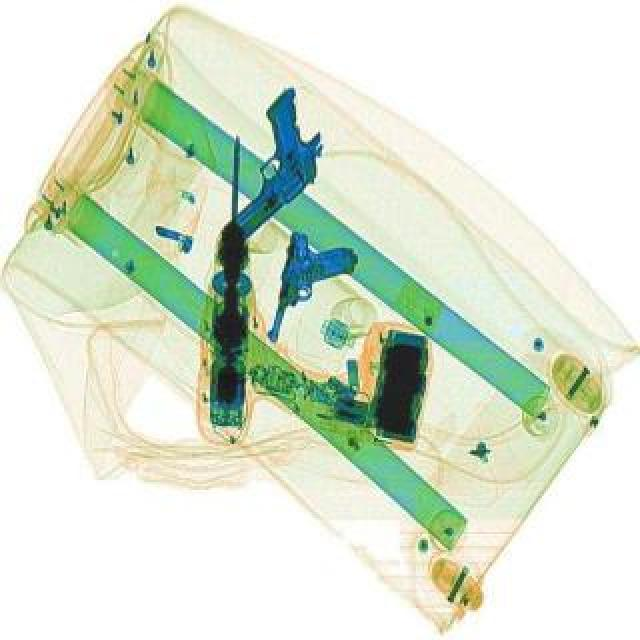gun: (174, 82, 354, 244), (264, 226, 364, 352)
